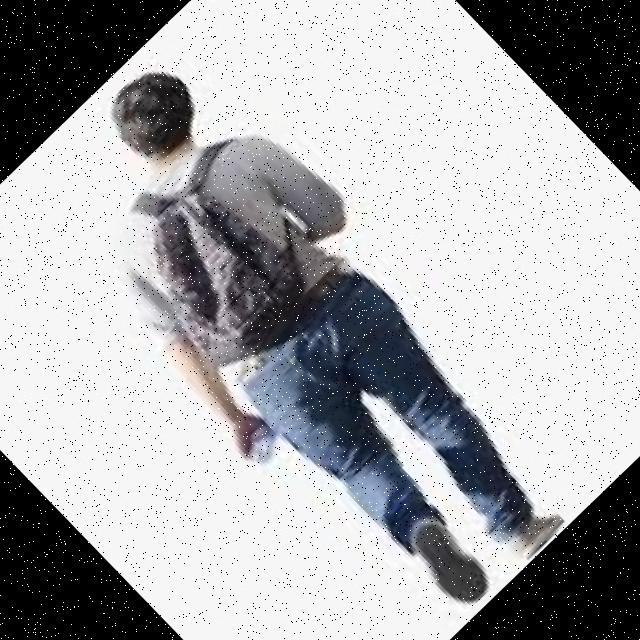Person: (0, 27, 618, 640)
